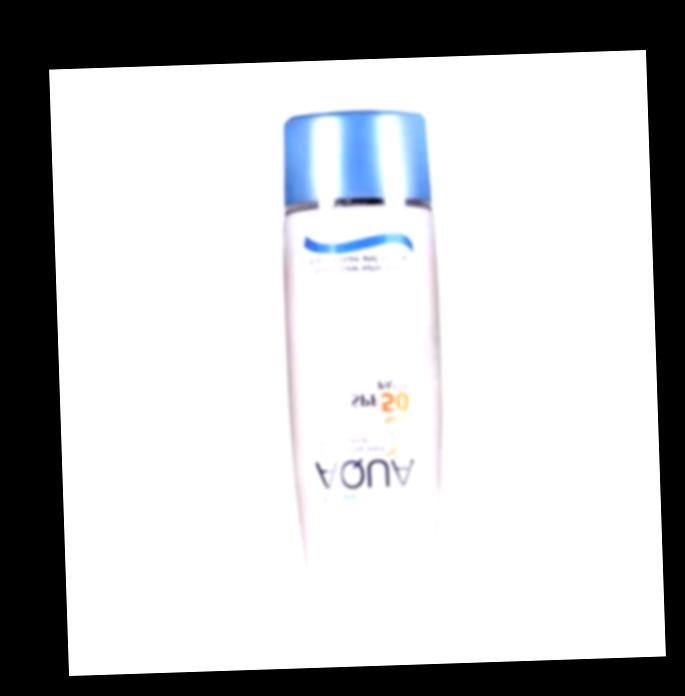cosmetic: (279, 109, 450, 614)
